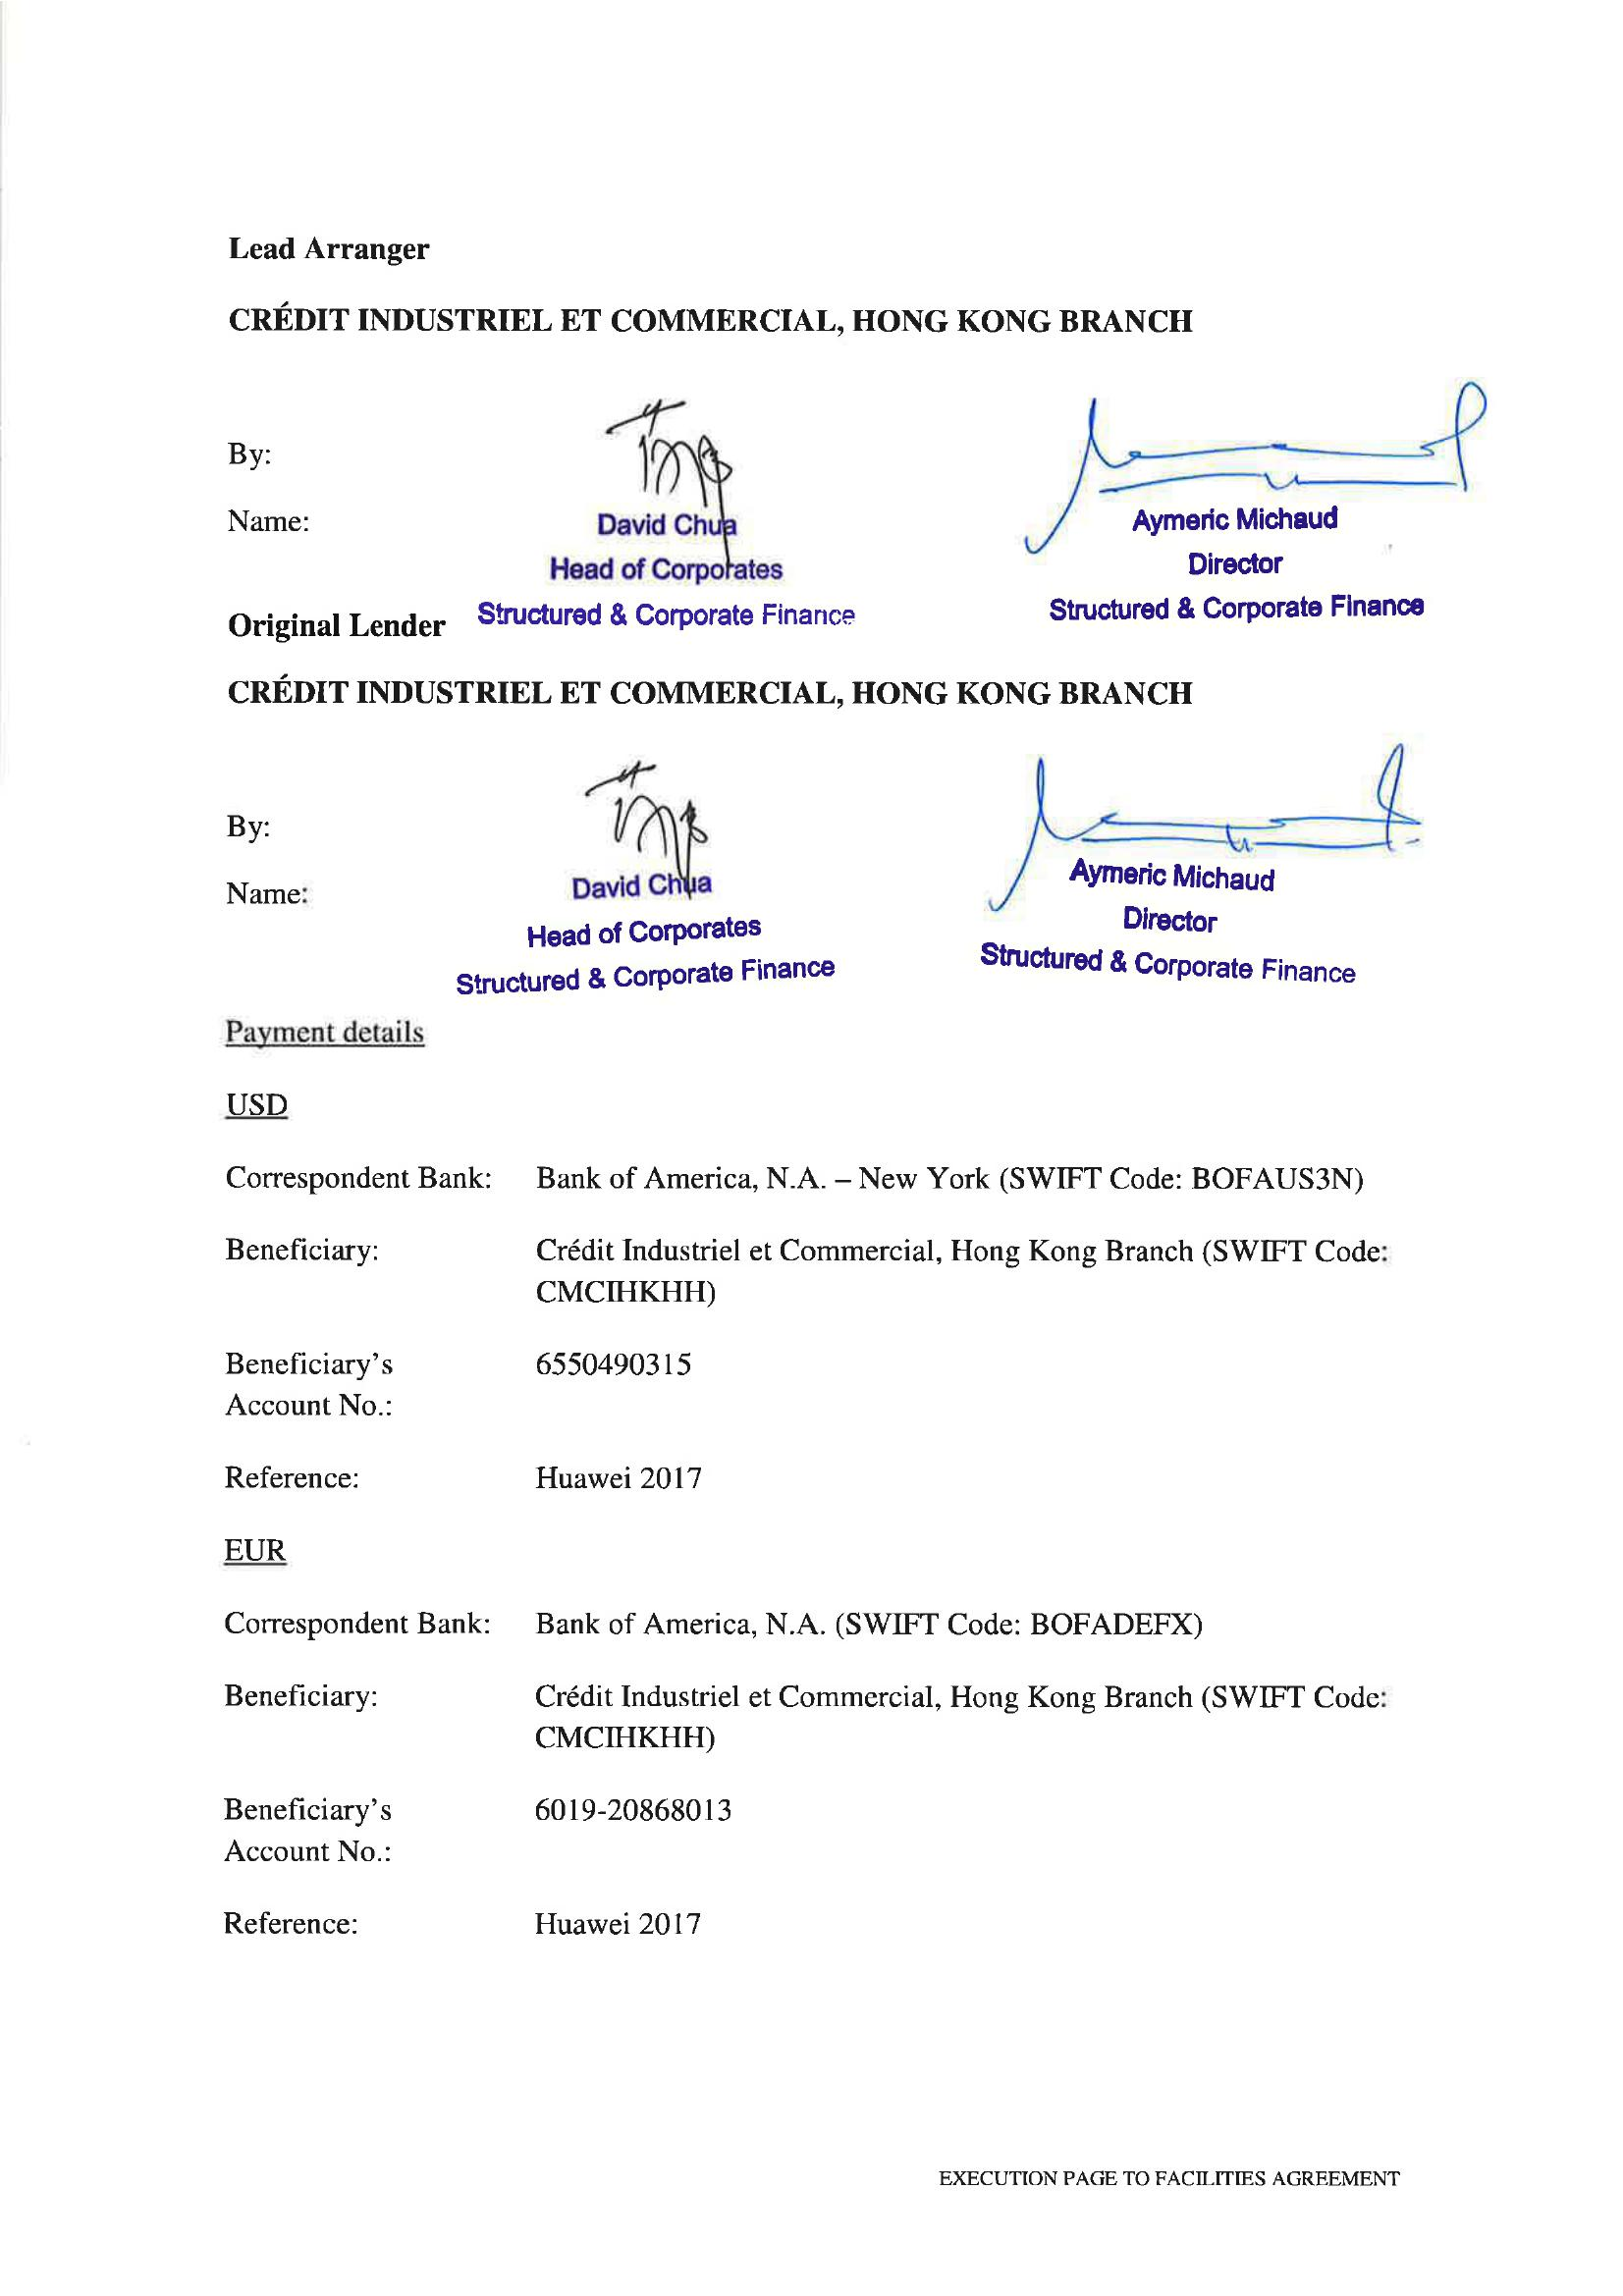typetag: (859, 2120, 1447, 2228)
